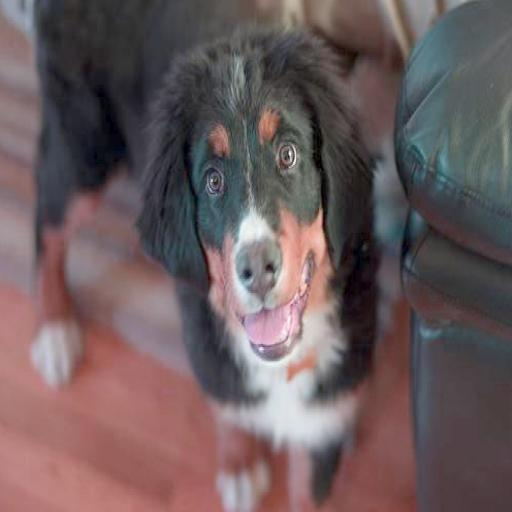dog_face: (148, 44, 349, 349)
